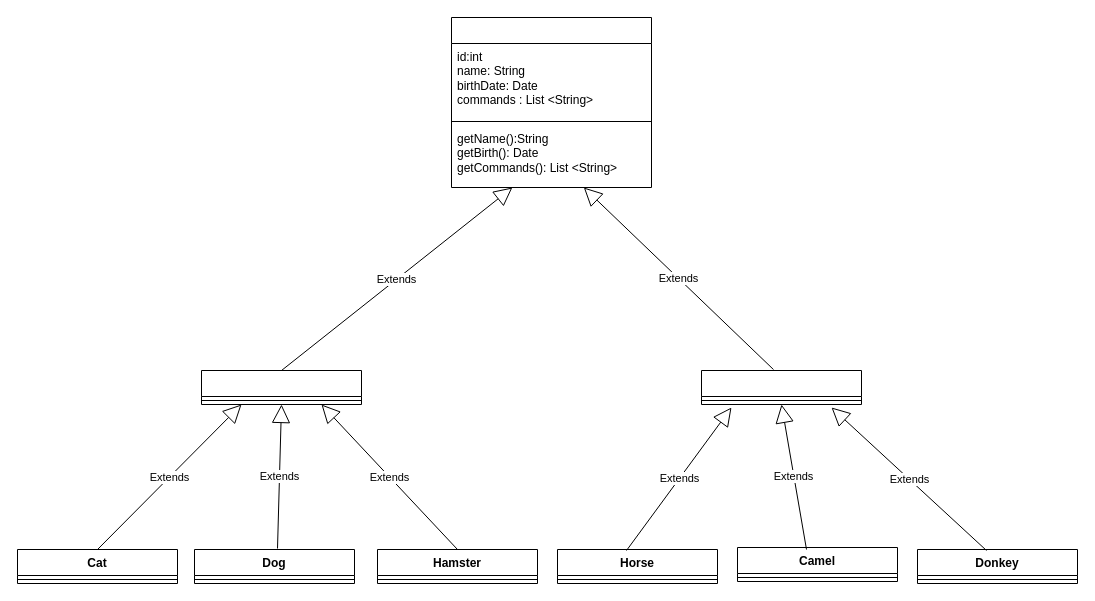
This 1095x601 diagram has some shape labels left out. Here are the shapes that lost their labels. From the top down, the box of each, then its label:
(450, 16, 652, 188): HumanFriends
(200, 370, 362, 404): Pets
(700, 370, 862, 404): PackAnimals
